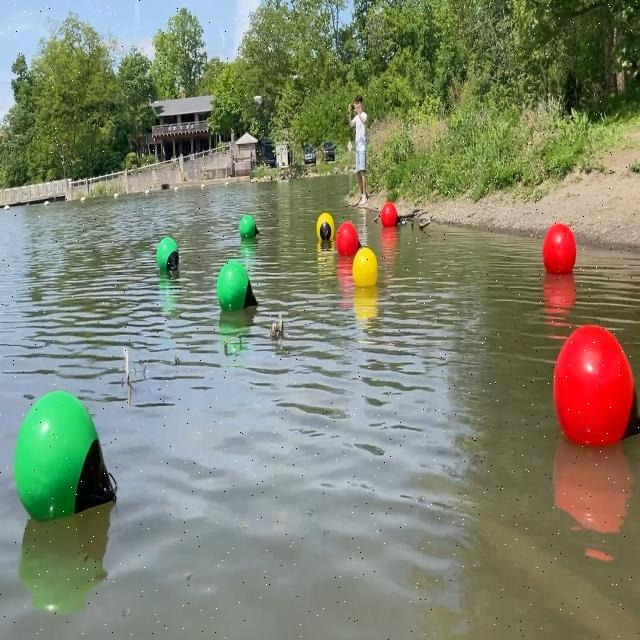buoy: (14, 390, 118, 521), (553, 325, 640, 443), (217, 258, 259, 314), (544, 222, 576, 274), (353, 246, 378, 288), (336, 221, 362, 258), (156, 236, 178, 270), (316, 213, 334, 240), (240, 212, 258, 239), (380, 202, 400, 226)
